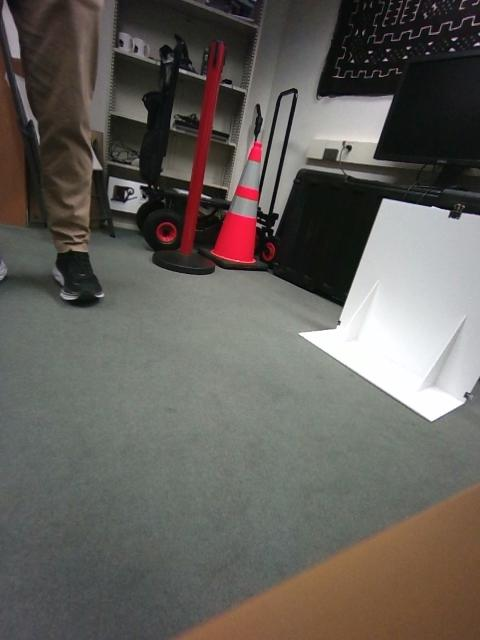block: (6, 372, 67, 460)
